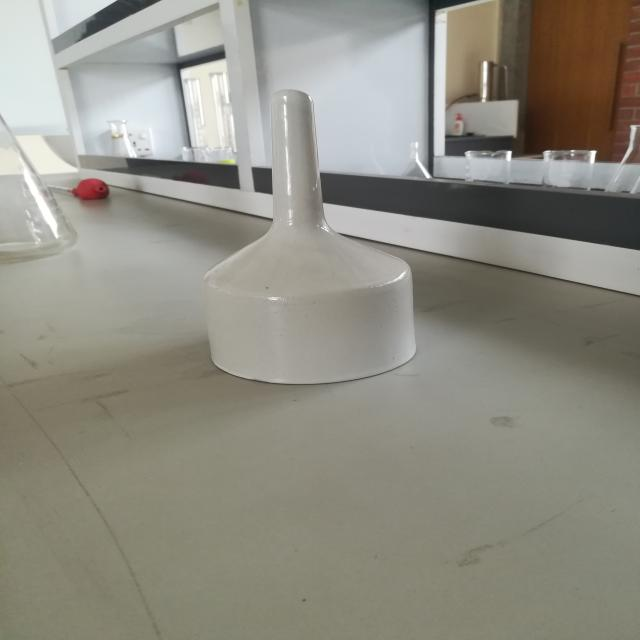Buchner_Funnel: (170, 54, 456, 417)
